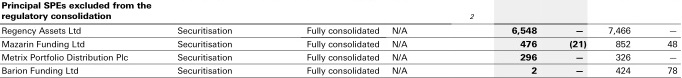column: (1, 1, 151, 78), (307, 1, 380, 78), (177, 1, 232, 78), (511, 1, 538, 78), (608, 1, 631, 78), (569, 1, 586, 78), (393, 1, 408, 78), (667, 1, 678, 78)
row: (1, 53, 682, 63), (1, 66, 682, 75), (2, 1, 682, 10), (1, 26, 681, 35), (1, 40, 682, 48), (1, 12, 681, 20)
